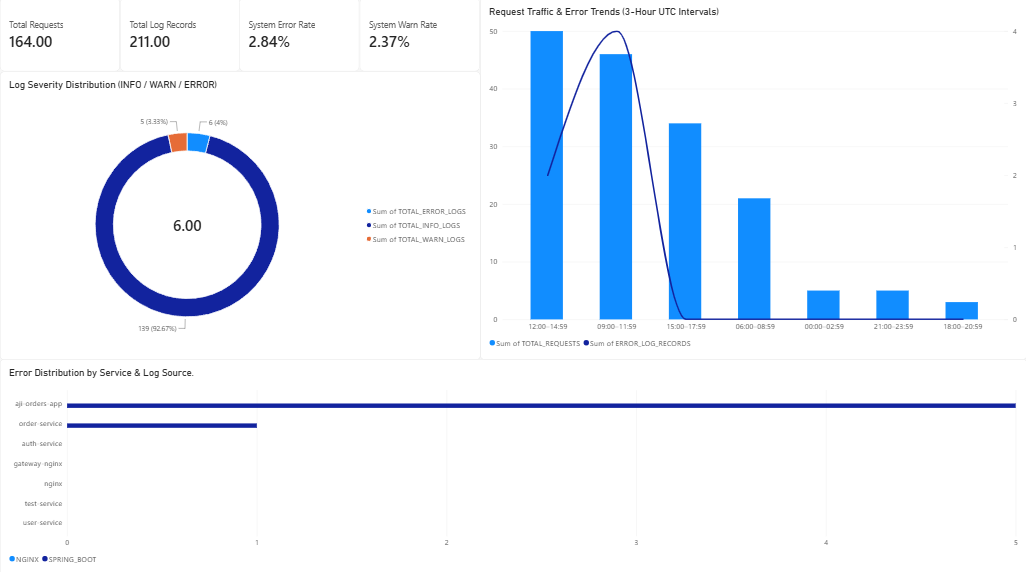

Layout of this report page (visuals, bound fields, positions):
{"tool":"powerbi","page":{"name":"Application Health & Traffic","canvas":[1920,1080],"ordinal":0},"visuals":[{"type":"cardVisual","fields":{"Data":["VW_LOG_EXECUTIVE_METRICS.Total Requests"]},"box":[0,0,224.3,137.1],"z":0},{"type":"cardVisual","fields":{"Data":["VW_LOG_EXECUTIVE_METRICS.Total Log Records"]},"box":[224.3,0,224.3,137.1],"z":1000},{"type":"cardVisual","fields":{"Data":["VW_LOG_EXECUTIVE_METRICS.System Error Rate"]},"box":[448.6,0,224.3,137.1],"z":2000},{"type":"cardVisual","fields":{"Data":["VW_LOG_EXECUTIVE_METRICS.System Warn Rate"]},"box":[672.9,0,224.3,137.1],"z":3000},{"type":"lineClusteredColumnComboChart","title":"Request Traffic & Error Trends (3-Hour UTC Intervals)","fields":{"Category":["VW_REQUEST_TRAFFIC_3HOUR_INTERVALS.INTERVAL_WINDOW_UTC"],"Y":["Sum(VW_REQUEST_TRAFFIC_3HOUR_INTERVALS.TOTAL_REQUESTS)"],"Y2":["Sum(VW_REQUEST_TRAFFIC_3HOUR_INTERVALS.ERROR_LOG_RECORDS)"]},"box":[897.8,0,1021.7,676.1],"z":4000},{"type":"donutChart","title":"Log Severity Distribution (INFO / WARN / ERROR)","fields":{"Y":["Sum(VW_LOG_EXECUTIVE_METRICS.TOTAL_ERROR_LOGS)","Sum(VW_LOG_EXECUTIVE_METRICS.TOTAL_INFO_LOGS)","Sum(VW_LOG_EXECUTIVE_METRICS.TOTAL_WARN_LOGS)"]},"box":[0,137,897.8,539.1],"z":5000},{"type":"clusteredBarChart","title":"Error Distribution by Service & Log Source.","fields":{"Category":["VW_ERROR_DISTRIBUTION_BY_SERVICE_SOURCE.SERVICE_NAME"],"Series":["VW_ERROR_DISTRIBUTION_BY_SERVICE_SOURCE.LOG_SOURCE"],"Y":["Sum(VW_ERROR_DISTRIBUTION_BY_SERVICE_SOURCE.ERROR_COUNT)"]},"box":[0,675,1920,405],"z":6000}]}

Visuals, with their boxes in screenshot pixels (x1, y1, x2, y2), scaled from the page's 1920x1080 canvas onto the 1026x572 screenshot:
cardVisual - VW_LOG_EXECUTIVE_METRICS.Total Requests: 0, 0, 120, 73
cardVisual - VW_LOG_EXECUTIVE_METRICS.Total Log Records: 120, 0, 240, 73
cardVisual - VW_LOG_EXECUTIVE_METRICS.System Error Rate: 240, 0, 360, 73
cardVisual - VW_LOG_EXECUTIVE_METRICS.System Warn Rate: 360, 0, 479, 73
"Request Traffic & Error Trends (3-Hour UTC Intervals)" lineClusteredColumnComboChart: 480, 0, 1025, 358
"Log Severity Distribution (INFO / WARN / ERROR)" donutChart: 0, 73, 480, 358
"Error Distribution by Service & Log Source." clusteredBarChart: 0, 358, 1025, 571
